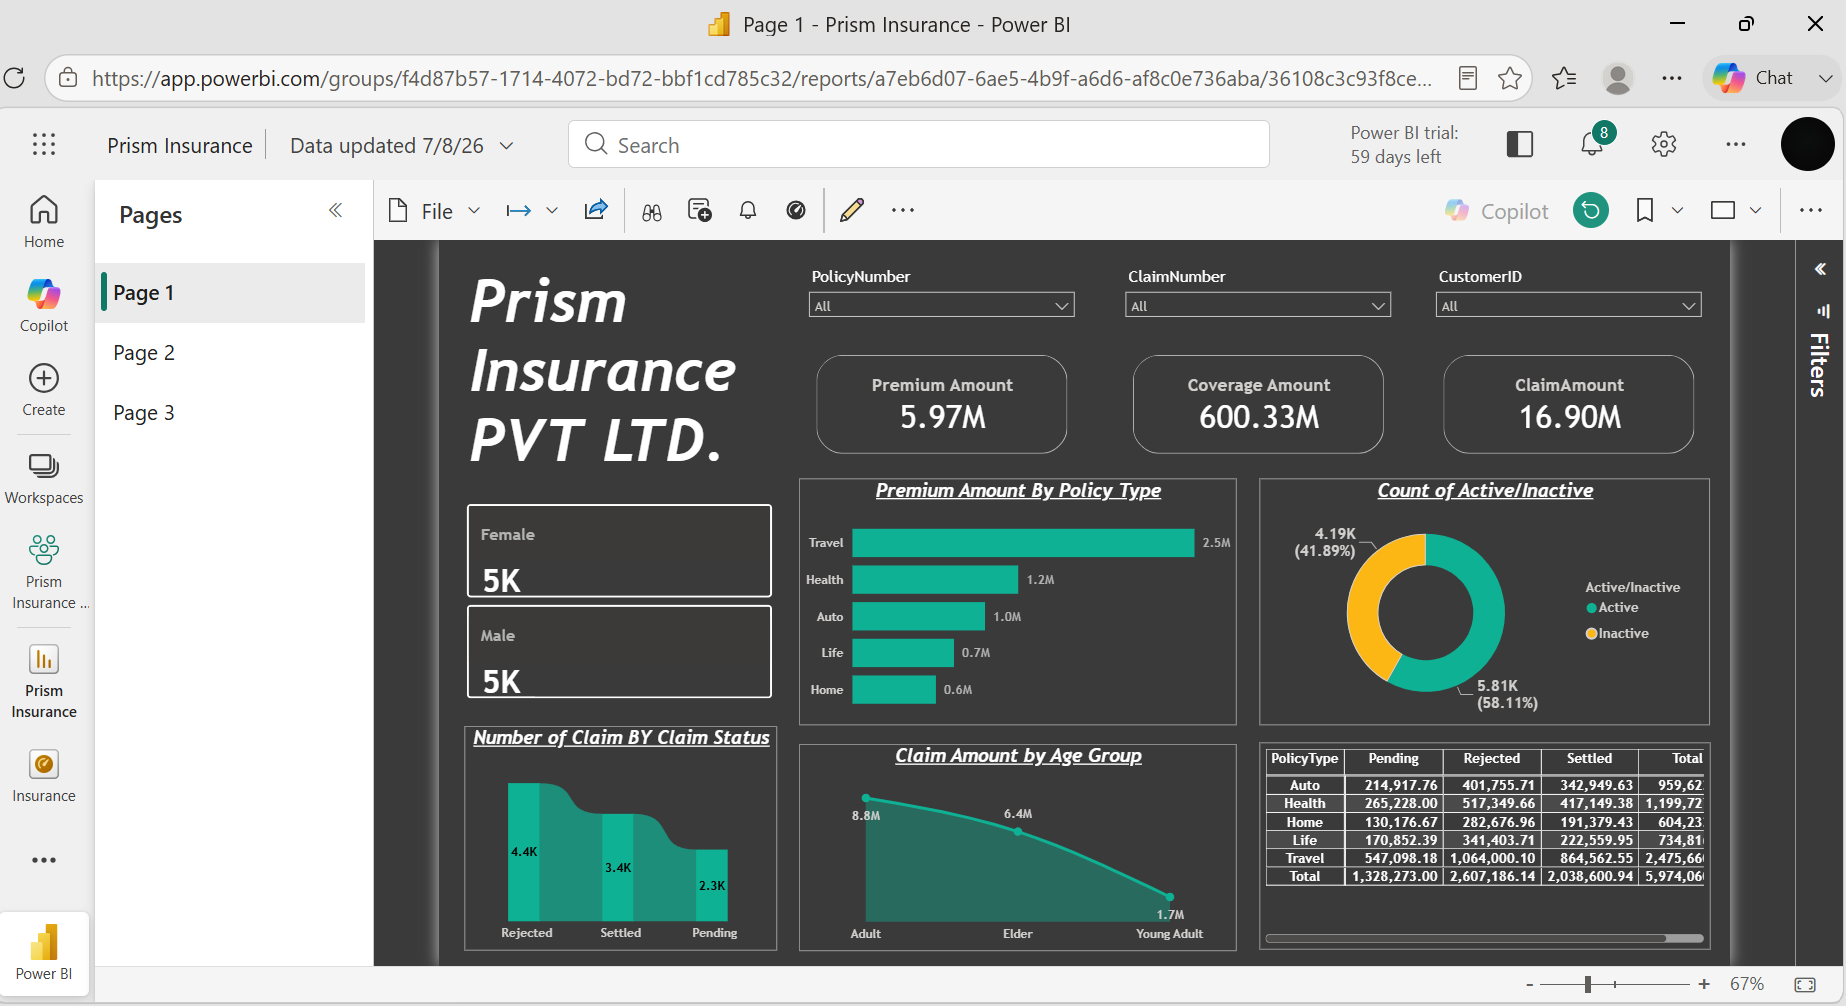

The dashboard page shown, as its layout file describes it:
{"tool":"powerbi","page":{"name":"Page 1","canvas":[1280,720],"ordinal":0},"visuals":[{"type":"slicer","fields":{"Values":["InsuranceData.PolicyNumber"]},"box":[357.2,20.8,283.5,75.6],"z":0},{"type":"slicer","fields":{"Values":["InsuranceData.ClaimNumber"]},"box":[670.9,20.8,283.5,75.6],"z":1000},{"type":"slicer","fields":{"Values":["InsuranceData.CustomerID"]},"box":[978.9,20.8,283.5,75.6],"z":2000},{"type":"textbox","box":[24.6,20.8,332.6,262.7],"z":3000},{"type":"cardVisual","fields":{"Data":["Sum(InsuranceData.PremiumAmount)"]},"box":[357.2,96.4,283.5,132.3],"z":4000},{"type":"cardVisual","fields":{"Data":["Sum(InsuranceData.CoverageAmount)"]},"box":[670.9,96.4,283.5,132.3],"z":5000},{"type":"cardVisual","fields":{"Data":["Sum(InsuranceData.ClaimAmount)"]},"box":[978.9,96.4,283.5,132.3],"z":6000},{"type":"cardVisual","fields":{"Rows":["InsuranceData.Gender"],"Data":["CountNonNull(InsuranceData.Gender)"]},"box":[22.3,237,313.4,245],"z":7000},{"type":"ribbonChart","title":"Number of Claim BY Claim Status","fields":{"Category":["InsuranceData.ClaimStatus"],"Y":["CountNonNull(InsuranceData.ClaimStatus)"]},"box":[25.4,482,310.2,222.7],"z":8000},{"type":"barChart","title":"Premium Amount By Policy Type","fields":{"Category":["InsuranceData.PolicyType"],"Y":["Sum(InsuranceData.PremiumAmount)"]},"box":[356.3,237,434.2,245],"z":9000},{"type":"lineChart","title":"Claim Amount by Age Group","fields":{"Category":["InsuranceData.Age Group"],"Y":["Sum(InsuranceData.ClaimAmount)"]},"box":[356.3,499.5,434.2,205.2],"z":10000},{"type":"donutChart","title":"Count of Active/Inactive","fields":{"Category":["InsuranceData.Active/Inactive"],"Y":["CountNonNull(InsuranceData.Active/Inactive)"]},"box":[814.4,237,447,245],"z":11000},{"type":"pivotTable","fields":{"Values":["Sum(InsuranceData.PremiumAmount)"],"Rows":["InsuranceData.PolicyType"],"Columns":["InsuranceData.ClaimStatus"]},"box":[814,499,447,205],"z":12000}]}

Visuals, with their boxes on the page's 1280x720 design canvas (x1, y1, x2, y2). These are canvas units, not pixel positions in the 1846x1006 screenshot, which may show the page scaled, cropped or inside an application window:
slicer - InsuranceData.PolicyNumber: [left=357, top=21, right=641, bottom=96]
slicer - InsuranceData.ClaimNumber: [left=671, top=21, right=954, bottom=96]
slicer - InsuranceData.CustomerID: [left=979, top=21, right=1262, bottom=96]
textbox: [left=25, top=21, right=357, bottom=284]
cardVisual - Sum(InsuranceData.PremiumAmount): [left=357, top=96, right=641, bottom=229]
cardVisual - Sum(InsuranceData.CoverageAmount): [left=671, top=96, right=954, bottom=229]
cardVisual - Sum(InsuranceData.ClaimAmount): [left=979, top=96, right=1262, bottom=229]
cardVisual - InsuranceData.Gender x CountNonNull(InsuranceData.Gender): [left=22, top=237, right=336, bottom=482]
"Number of Claim BY Claim Status" ribbonChart: [left=25, top=482, right=336, bottom=705]
"Premium Amount By Policy Type" barChart: [left=356, top=237, right=790, bottom=482]
"Claim Amount by Age Group" lineChart: [left=356, top=500, right=790, bottom=705]
"Count of Active/Inactive" donutChart: [left=814, top=237, right=1261, bottom=482]
pivotTable - Sum(InsuranceData.PremiumAmount) x InsuranceData.PolicyType: [left=814, top=499, right=1261, bottom=704]
